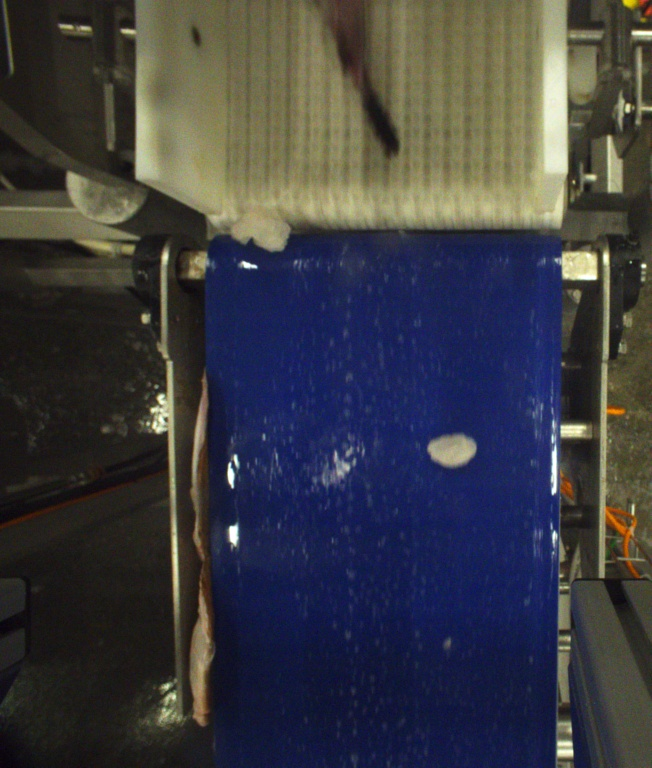ANF: (328, 0, 404, 159)
